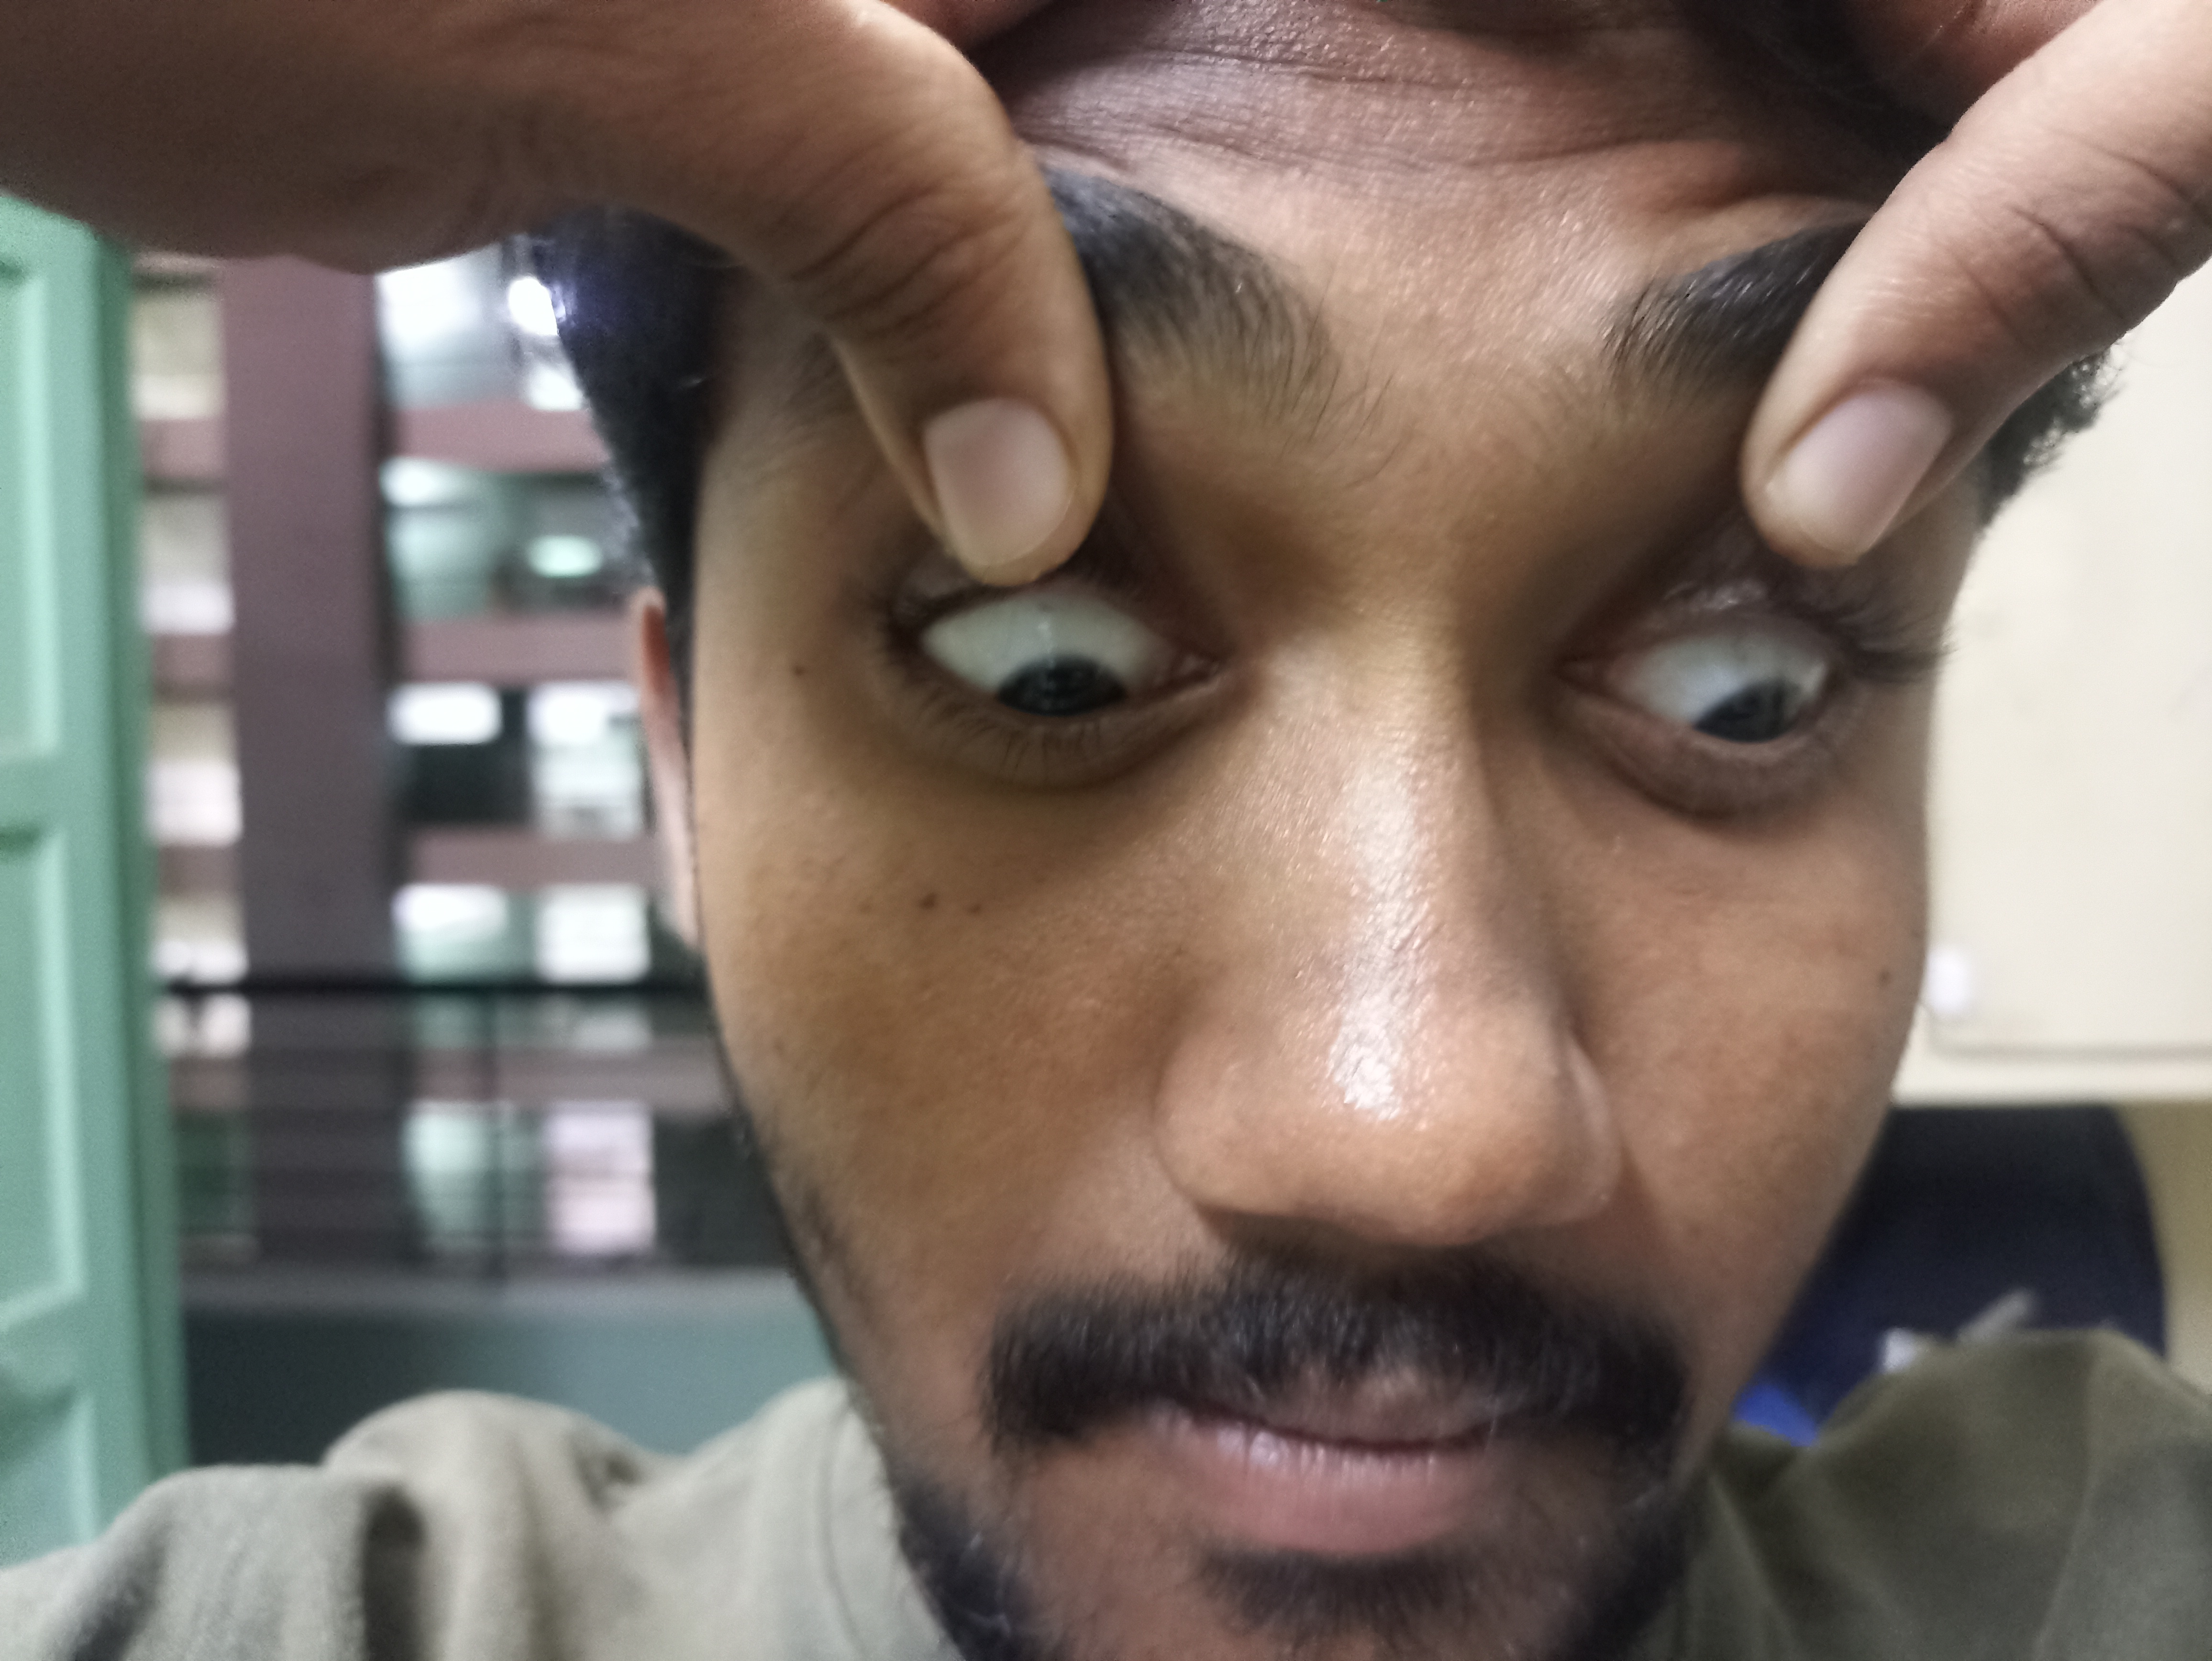EYE DOWN: (1509, 424, 1970, 939), (783, 407, 1286, 843)
